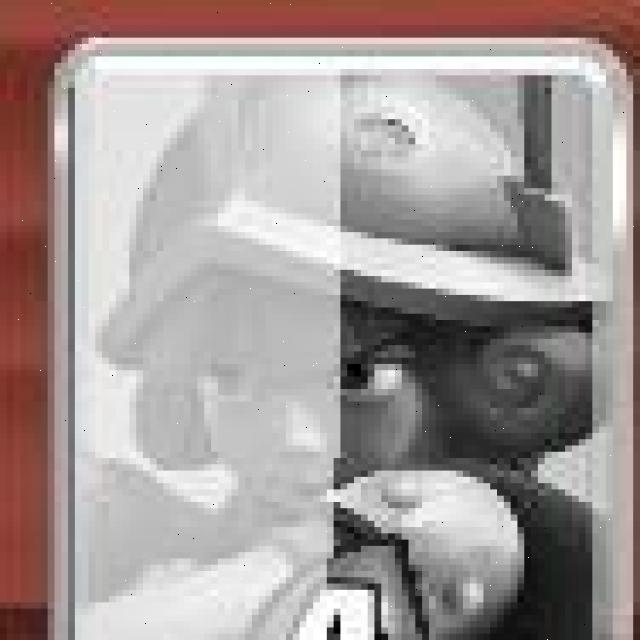Musketeer: (58, 46, 640, 640)
